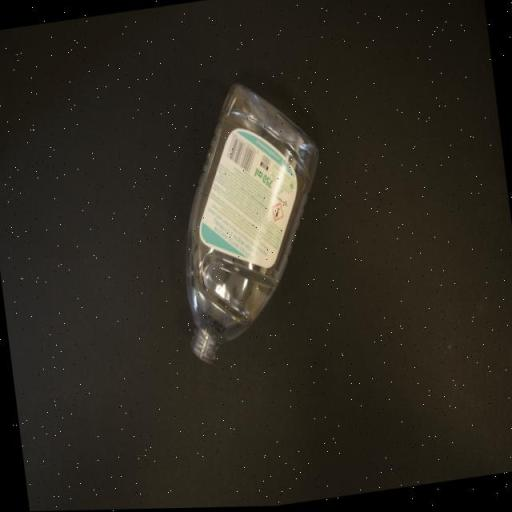plastic: (157, 76, 343, 367)
